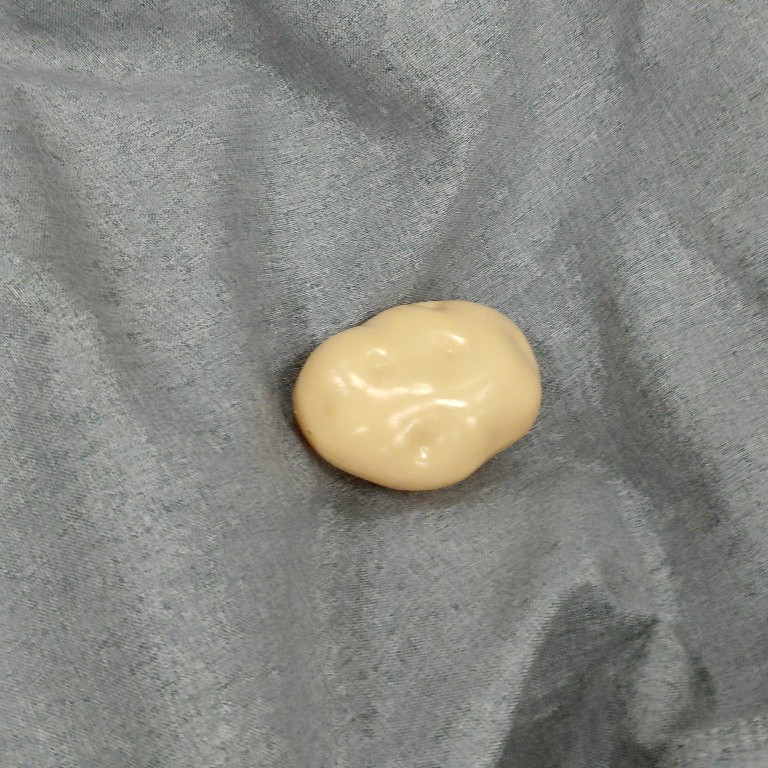fruit_potato: (285, 295, 546, 494)
